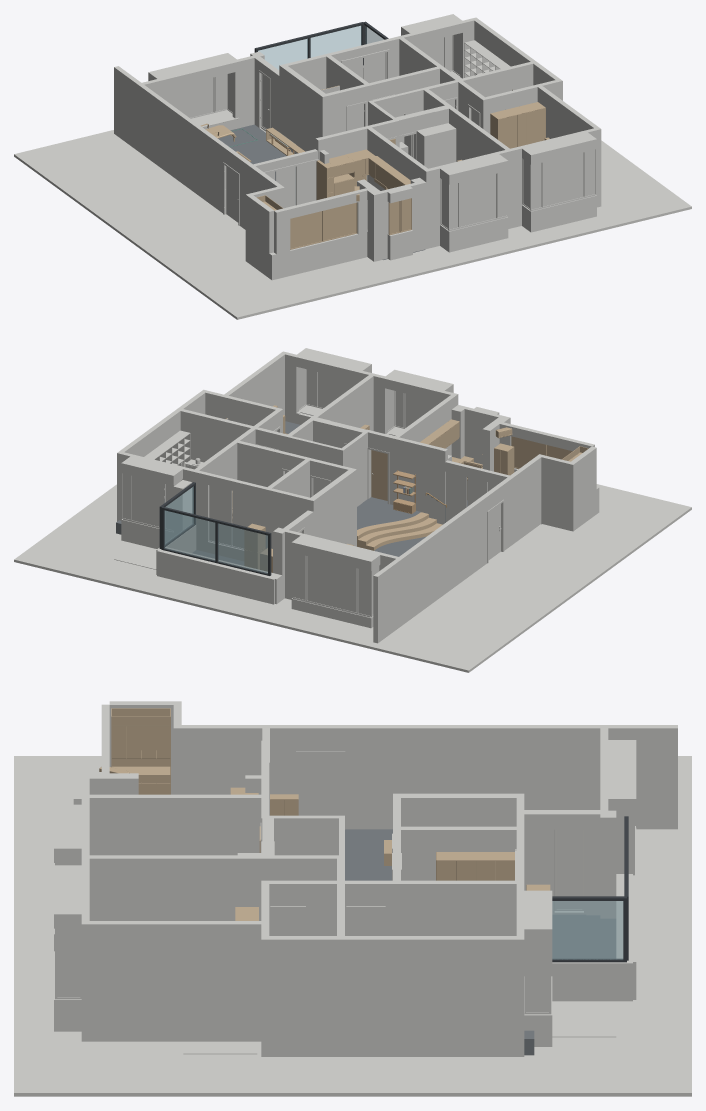
The model's file is interaction_proxy.glb.
The picture shows the model from 3 angles, top to bottom: view 1: azimuth 30°, elevation 25°; view 2: azimuth 150°, elevation 25°; view 3: azimuth 270°, elevation 25°; orthographic projection. The views are drawn at different scales.
Visible parts, largest first — view 1: SITE_GROUND.001, VIEW_WALL_W_wall_md_0006.001, VIEW_WALL_LIVING_FIX_GUEST_BATH_FULL_WALL.001, VIEW_WALL_W_wall_md_0042.001, VIEW_WALL_W_wall_md_0035.001, V4_W-MB-S_FRONT_GLASS_1.001, VIEW_WALL_W_wall_md_0034.001, V4_W-SMB-S_FRONT_GLASS_1.001, VIEW_WALL_W_wall_md_0007.001, VIEW_WALL_W_wall_md_0021.001, VIEW_WALL_W_wall_md_0030.001, VIEW_WALL_W_wall_md_0060.001 (+45 smaller); view 2: SITE_GROUND.001, VIEW_WALL_W_wall_md_0006.001, VIEW_WALL_W_wall_md_0062.001, VIEW_WALL_W_wall_md_0005.001, VIEW_WALL_W_wall_md_0044.001, VIEW_WALL_W_wall_md_0055.001, VIEW_WALL_W_wall_md_0043.001, VIEW_WALL_LIVING_FIX_GUEST_BATH_FULL_WALL.001, LIVING_FIX_BAY_FRONT_GLASS_1.001, VIEW_WALL_W_wall_md_0049.001, NORTH_BALCONY_GLASS_NORTH_B.001, VIEW_WALL_W_wall_md_0007.001 (+55 smaller); view 3: SITE_GROUND.001, VIEW_WALL_W_wall_md_0030.001, VIEW_WALL_W_wall_md_0033.001, VIEW_WALL_W_wall_md_0006.001, VIEW_WALL_W_wall_md_0021.001, VIEW_WALL_W_wall_md_0015.001, VIEW_WALL_W_wall_md_0032.001, VIEW_WALL_W_wall_md_0005.001, VIEW_WALL_W_wall_md_0025.001, FLOOR_LOWER.001, VIEW_WALL_W_wall_md_0007.001, NORTH_BALCONY_GLASS_EAST.001 (+38 smaller).
Boxes of the visible parts, box(x1,y1,x2,y2) form: SITE_GROUND.001: box(14, 128, 691, 319); VIEW_WALL_W_wall_md_0006.001: box(139, 85, 227, 212); VIEW_WALL_LIVING_FIX_GUEST_BATH_FULL_WALL.001: box(282, 66, 325, 153); VIEW_WALL_W_wall_md_0042.001: box(276, 232, 367, 278); VIEW_WALL_W_wall_md_0035.001: box(533, 139, 594, 231); V4_W-MB-S_FRONT_GLASS_1.001: box(543, 152, 583, 206); VIEW_WALL_W_wall_md_0034.001: box(451, 161, 505, 251); V4_W-SMB-S_FRONT_GLASS_1.001: box(460, 174, 496, 226); VIEW_WALL_W_wall_md_0007.001: box(114, 66, 141, 150); VIEW_WALL_W_wall_md_0021.001: box(449, 107, 509, 161); VIEW_WALL_W_wall_md_0030.001: box(537, 86, 598, 138); VIEW_WALL_W_wall_md_0060.001: box(232, 55, 254, 128); SITE_GROUND.001: box(14, 484, 691, 672); VIEW_WALL_W_wall_md_0006.001: box(399, 495, 487, 624); VIEW_WALL_W_wall_md_0062.001: box(157, 547, 277, 604); VIEW_WALL_W_wall_md_0005.001: box(499, 456, 541, 550); VIEW_WALL_W_wall_md_0044.001: box(396, 437, 441, 523); VIEW_WALL_W_wall_md_0055.001: box(196, 470, 266, 561); VIEW_WALL_W_wall_md_0043.001: box(541, 455, 575, 531); VIEW_WALL_LIVING_FIX_GUEST_BATH_FULL_WALL.001: box(311, 470, 354, 545); LIVING_FIX_BAY_FRONT_GLASS_1.001: box(307, 556, 356, 612); VIEW_WALL_W_wall_md_0049.001: box(180, 409, 253, 462); NORTH_BALCONY_GLASS_NORTH_B.001: box(164, 510, 215, 560); VIEW_WALL_W_wall_md_0007.001: box(373, 559, 400, 643); SITE_GROUND.001: box(14, 756, 691, 1096); VIEW_WALL_W_wall_md_0030.001: box(89, 921, 261, 1041); VIEW_WALL_W_wall_md_0033.001: box(345, 936, 516, 1056); VIEW_WALL_W_wall_md_0006.001: box(345, 725, 600, 829); VIEW_WALL_W_wall_md_0021.001: box(89, 855, 261, 920); VIEW_WALL_W_wall_md_0015.001: box(89, 794, 261, 855); VIEW_WALL_W_wall_md_0032.001: box(261, 936, 336, 1056); VIEW_WALL_W_wall_md_0005.001: box(181, 725, 296, 794); VIEW_WALL_W_wall_md_0025.001: box(401, 880, 516, 935); FLOOR_LOWER.001: box(345, 829, 616, 958); VIEW_WALL_W_wall_md_0007.001: box(608, 725, 677, 829); NORTH_BALCONY_GLASS_EAST.001: box(552, 901, 623, 959).
Bounding box in the file's own units: 20 × 3.37 × 17.
